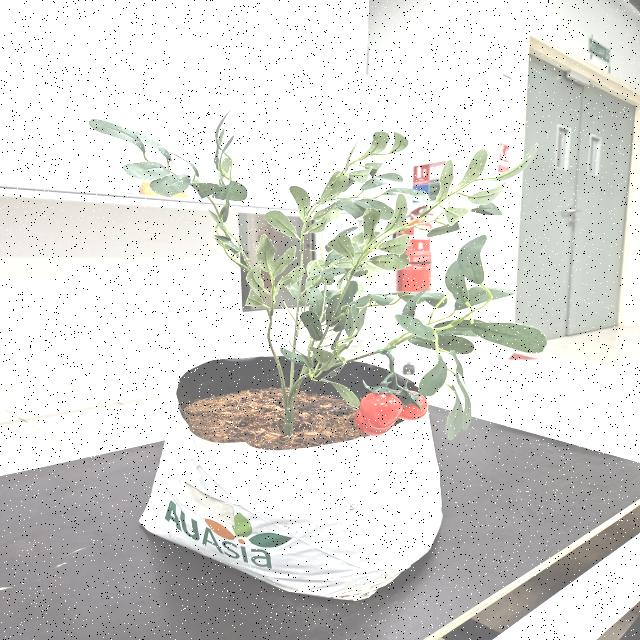Soilbag: (138, 348, 443, 603)
Tomato: (358, 390, 431, 435)
plant: (90, 112, 547, 442)
